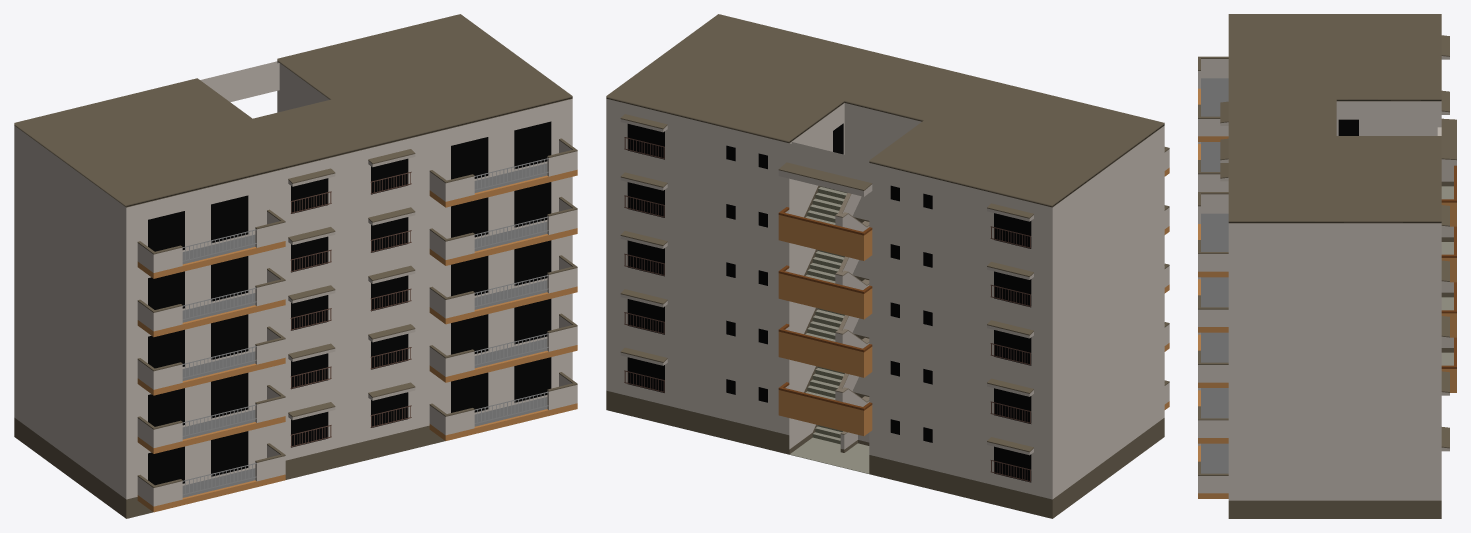
The model's file is building.fbx.
3 renders of one model, left to right at view 1: azimuth 30°, elevation 25°; view 2: azimuth 150°, elevation 25°; view 3: azimuth 270°, elevation 25°, orthographic. The views are drawn at different scales.
Visible parts, largest first — view 1: polySurface162, polySurface161; view 2: polySurface162, polySurface161; view 3: polySurface162, polySurface161.
Part boxes in pixels (x1,y1,x2,y2): polySurface162: (14,61,577,518); polySurface161: (14,14,572,207); polySurface162: (606,99,1169,518); polySurface161: (606,14,1164,207); polySurface162: (1198,35,1456,518); polySurface161: (1228,14,1441,223).
Bounding box in the file's own units: 24 × 16.13 × 12.7.
